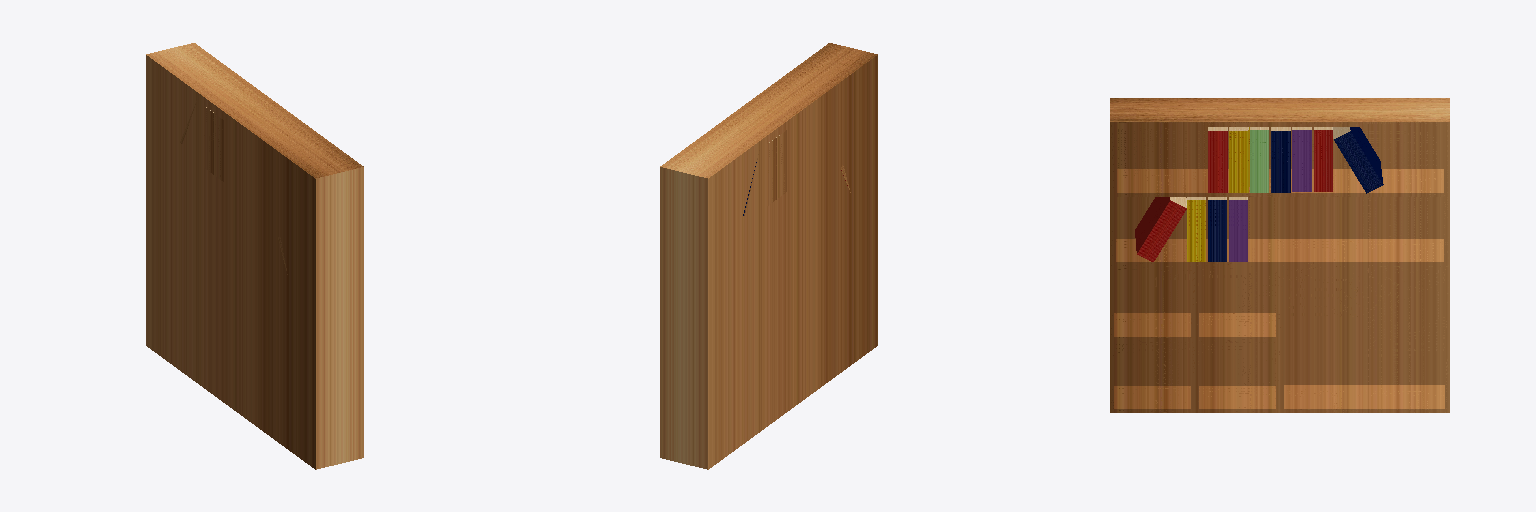
The picture shows the model from 3 angles: view 1: azimuth 30°, elevation 25°; view 2: azimuth 150°, elevation 25°; view 3: azimuth 270°, elevation 25°; orthographic projection.
Parts seen in each view (by area): view 1: Librero_Plane; view 2: Librero_Plane; view 3: Librero_Plane.
Boxes of the visible parts, box(x1,y1,x2,y2) form: Librero_Plane: box(146, 43, 363, 469); Librero_Plane: box(660, 43, 877, 469); Librero_Plane: box(1110, 98, 1449, 412).
Size of the model in its own units: 0.5248 by 2.82 by 2.98.
Materials: 7 (7 with a texture image).